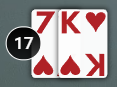7: (32, 9, 57, 36)
k: (58, 9, 84, 36)
